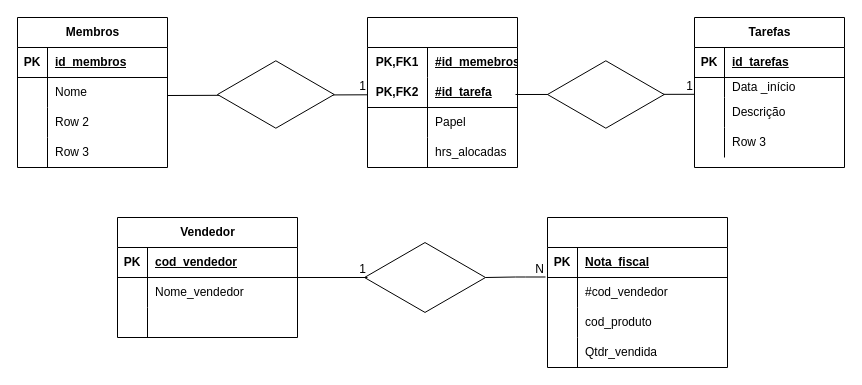
Some shapes in this 862 by 385 pixel diagram are drawn without their labels. Here are the shapes that lost their labels. From the top down, the box of each, then its label:
(366, 16, 518, 168): Table
(546, 216, 728, 368): Notas Fiscais
